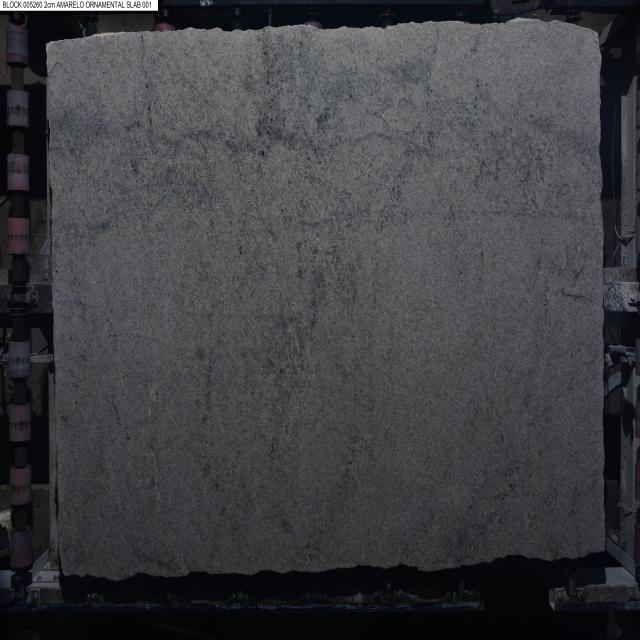chapa: (48, 22, 604, 579)
